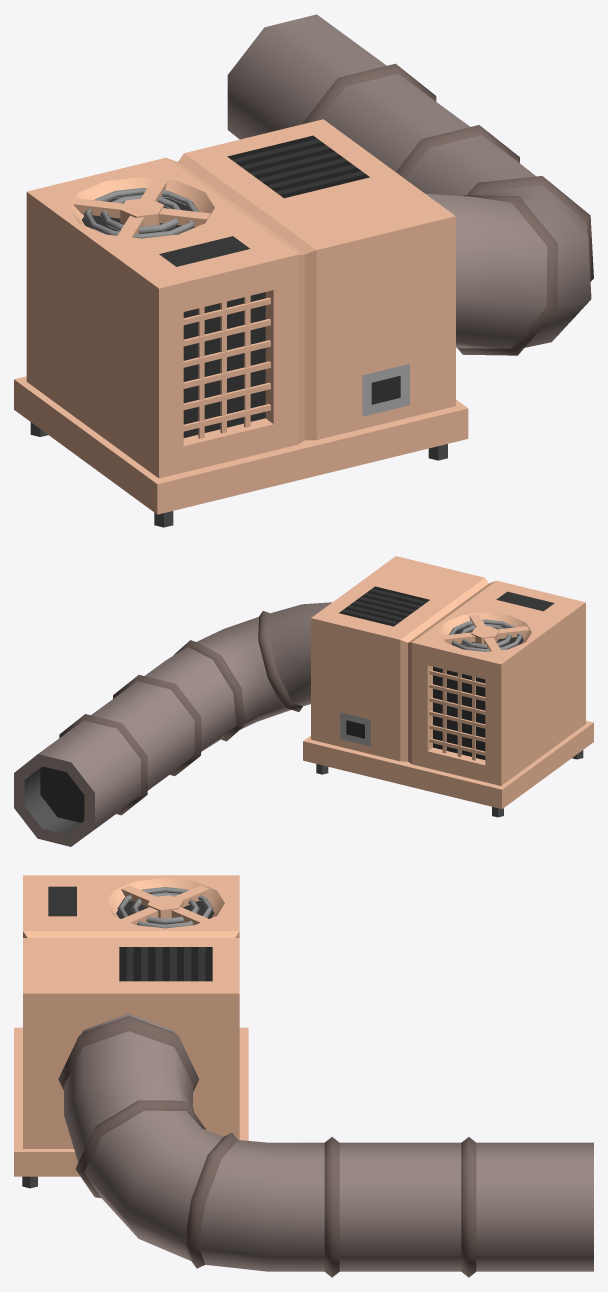
Rendered from Conditioner_002.glb.
3 views of the same model, one above another, from view 1: azimuth 30°, elevation 25°; view 2: azimuth 150°, elevation 25°; view 3: azimuth 270°, elevation 25° (orthographic). The views are drawn at different scales.
Visible parts, largest first — view 1: Conditioner_002; view 2: Conditioner_002; view 3: Conditioner_002.
Part boxes in pixels (x1,y1,x2,y2): Conditioner_002: (14,14,593,527); Conditioner_002: (14,556,593,846); Conditioner_002: (14,875,593,1277).
Bounding box in the file's own units: 2.3 × 0.9691 × 2.53.
1 material, 1 textured.
